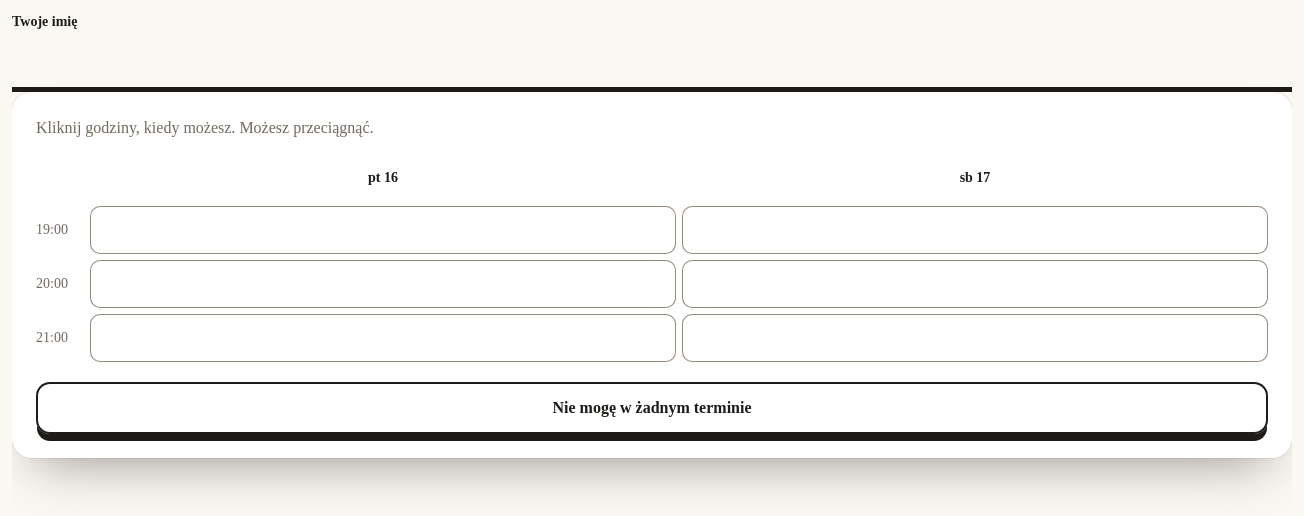
Test: the Moje lead and body › keeps the answered poll on this device with its last date
Type "Ola" into the field labelled "Twoje imię" at (652, 66), box [12, 40, 1292, 92]
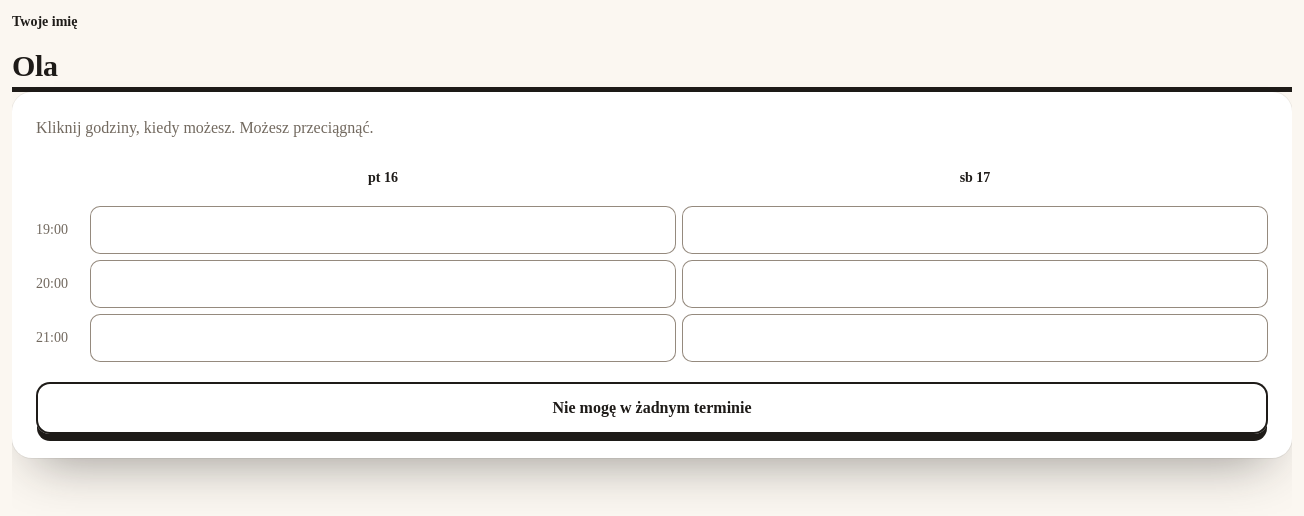
Click the button named "pt 16, 19:00" at (383, 230), box [90, 206, 676, 254]
Wait 500 ms
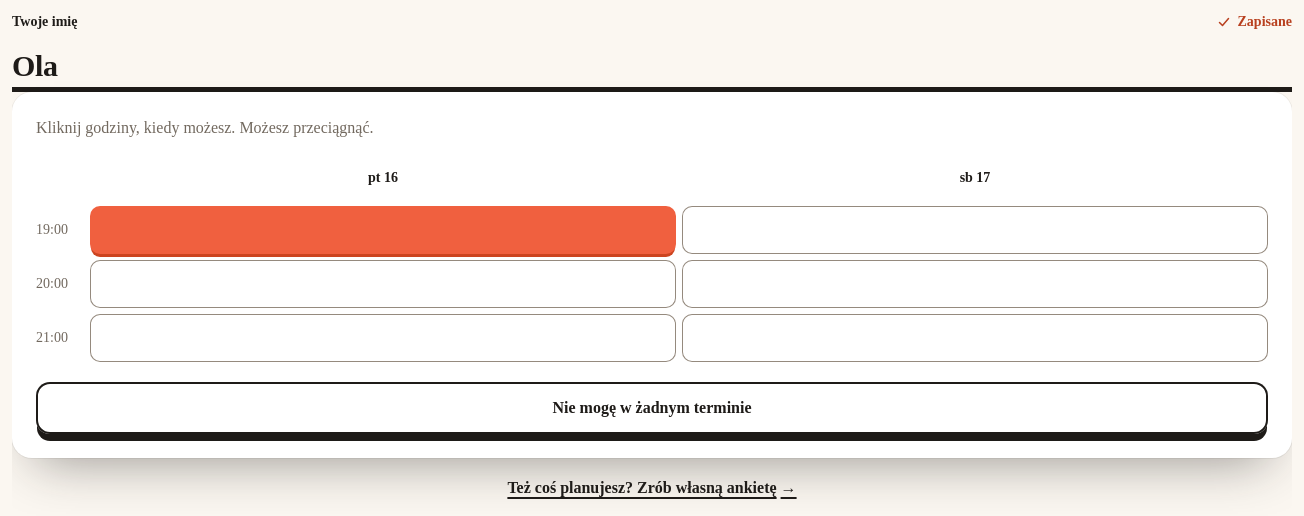
Expected: the message reads "Zapisane", [1238, 14, 1292, 29]
